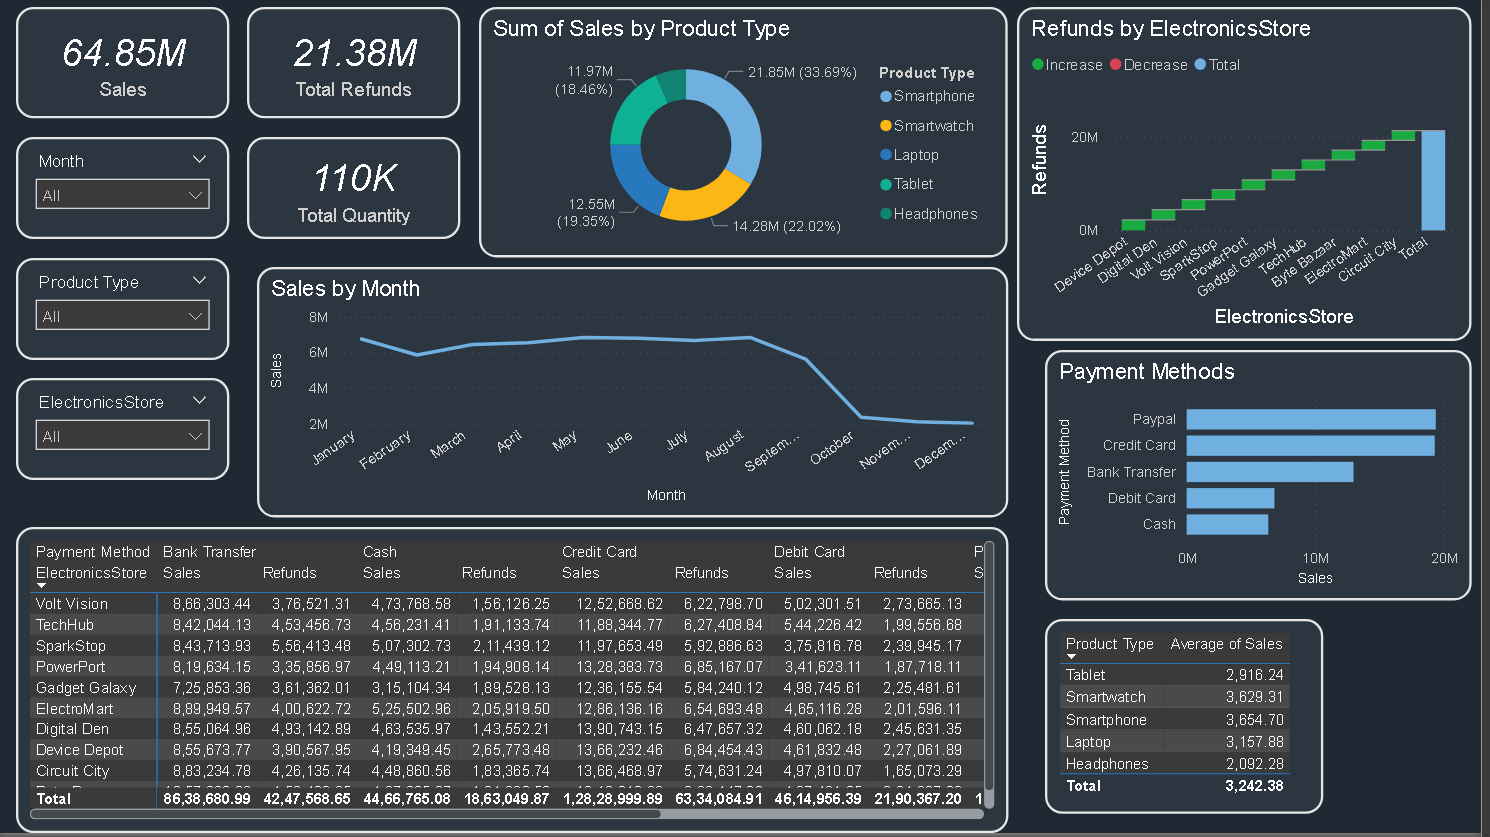

Layout of this report page (visuals, bound fields, positions):
{"tool":"powerbi","page":{"name":"Page 1","canvas":[1280,720],"ordinal":0},"visuals":[{"type":"card","fields":{"Values":["Sum(Electronic_sales_Sep2023-Sep2024.Quantity)"]},"box":[216,120,184,88],"z":0},{"type":"card","fields":{"Values":["Sum(Electronic_sales_Sep2023-Sep2024.Sales)"]},"box":[16,8,184,96],"z":1000},{"type":"card","fields":{"Values":["Sum(Electronic_sales_Sep2023-Sep2024.Sales)"]},"box":[216,8,184,96],"z":2000},{"type":"donutChart","fields":{"Category":["Electronic_sales_Sep2023-Sep2024.Product Type"],"Y":["Sum(Electronic_sales_Sep2023-Sep2024.Sales)"]},"box":[416,8,456,216],"z":3000},{"type":"barChart","title":"Payment Methods","fields":{"Category":["Electronic_sales_Sep2023-Sep2024.Payment Method"],"Y":["Sum(Electronic_sales_Sep2023-Sep2024.Sales)"]},"box":[904,304,368,216],"z":4000},{"type":"lineChart","fields":{"Y":["Sum(Electronic_sales_Sep2023-Sep2024.Sales)"],"Category":["Electronic_sales_Sep2023-Sep2024.Purchase Date.Variation.Date Hierarchy.Month"]},"box":[224,232,648,216],"z":5000},{"type":"waterfallChart","fields":{"Category":["Electronic_sales_Sep2023-Sep2024.ElectronicsStore"],"Y":["Sum(Electronic_sales_Sep2023-Sep2024.Sales)"]},"box":[880,8,392,288],"z":6000},{"type":"tableEx","fields":{"Values":["Electronic_sales_Sep2023-Sep2024.Product Type","Avg(Electronic_sales_Sep2023-Sep2024.Sales)"]},"box":[904,536,240,168],"z":7000},{"type":"slicer","fields":{"Values":["Electronic_sales_Sep2023-Sep2024.Product Type"]},"box":[16,224,184,88],"z":8000},{"type":"slicer","fields":{"Values":["Electronic_sales_Sep2023-Sep2024.ElectronicsStore"]},"box":[16,328,184,88],"z":9000},{"type":"slicer","fields":{"Values":["Electronic_sales_Sep2023-Sep2024.Purchase Date.Variation.Date Hierarchy.Month"]},"box":[16,120,184,88],"z":10000},{"type":"pivotTable","fields":{"Rows":["Electronic_sales_Sep2023-Sep2024.ElectronicsStore"],"Values":["Sum(Electronic_sales_Sep2023-Sep2024.Sales)","Electronic_sales_Sep2023-Sep2024.TotalRefunds"],"Columns":["Electronic_sales_Sep2023-Sep2024.Payment Method"]},"box":[16,456,856,264],"z":11000}]}

Visuals, with their boxes in screenshot pixels (x1, y1, x2, y2), scaled from the page's 1280x720 canvas onto the 1490x837 screenshot:
card - Sum(Electronic_sales_Sep2023-Sep2024.Quantity): (x1=251, y1=140, x2=466, y2=242)
card - Sum(Electronic_sales_Sep2023-Sep2024.Sales): (x1=19, y1=9, x2=233, y2=121)
card - Sum(Electronic_sales_Sep2023-Sep2024.Sales): (x1=251, y1=9, x2=466, y2=121)
donutChart - Electronic_sales_Sep2023-Sep2024.Product Type x Sum(Electronic_sales_Sep2023-Sep2024.Sales): (x1=484, y1=9, x2=1015, y2=260)
"Payment Methods" barChart: (x1=1052, y1=353, x2=1481, y2=604)
lineChart - Sum(Electronic_sales_Sep2023-Sep2024.Sales) x Electronic_sales_Sep2023-Sep2024.Purchase Date.Variation.Date Hierarchy.Month: (x1=261, y1=270, x2=1015, y2=521)
waterfallChart - Electronic_sales_Sep2023-Sep2024.ElectronicsStore x Sum(Electronic_sales_Sep2023-Sep2024.Sales): (x1=1024, y1=9, x2=1481, y2=344)
tableEx - Electronic_sales_Sep2023-Sep2024.Product Type x Avg(Electronic_sales_Sep2023-Sep2024.Sales): (x1=1052, y1=623, x2=1332, y2=818)
slicer - Electronic_sales_Sep2023-Sep2024.Product Type: (x1=19, y1=260, x2=233, y2=363)
slicer - Electronic_sales_Sep2023-Sep2024.ElectronicsStore: (x1=19, y1=381, x2=233, y2=484)
slicer - Electronic_sales_Sep2023-Sep2024.Purchase Date.Variation.Date Hierarchy.Month: (x1=19, y1=140, x2=233, y2=242)
pivotTable - Electronic_sales_Sep2023-Sep2024.ElectronicsStore x Sum(Electronic_sales_Sep2023-Sep2024.Sales): (x1=19, y1=530, x2=1015, y2=836)
